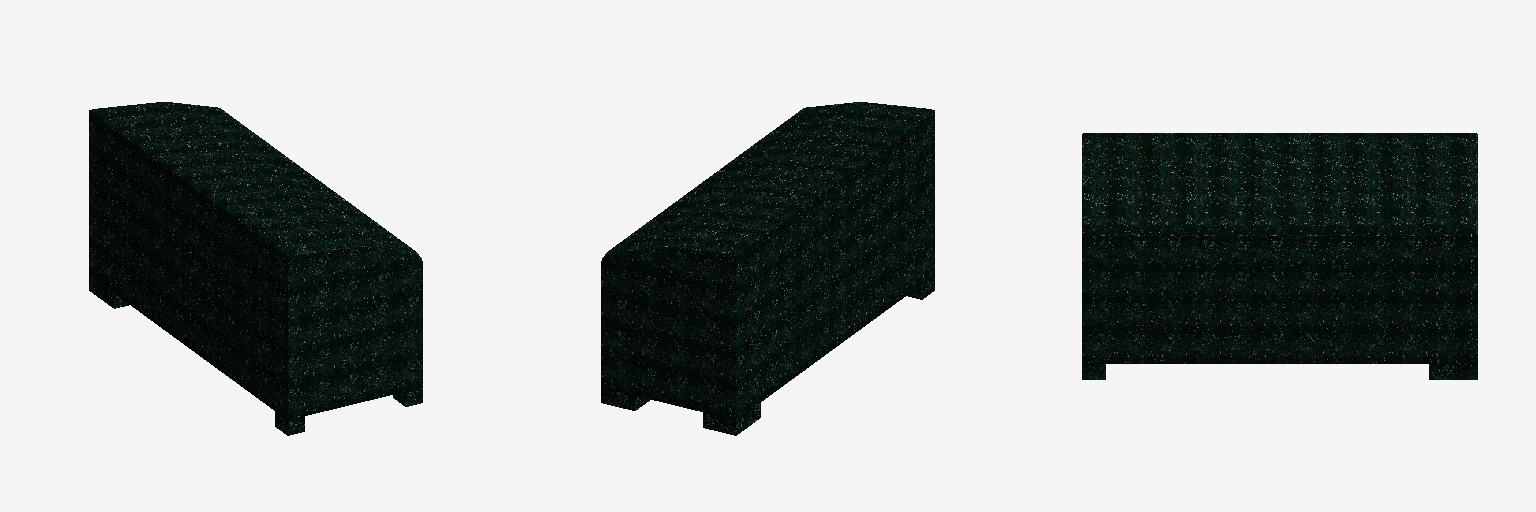
The picture shows the model from 3 angles: view 1: azimuth 30°, elevation 25°; view 2: azimuth 150°, elevation 25°; view 3: azimuth 270°, elevation 25°; orthographic projection.
Parts seen in each view (by area): view 1: dumpster; view 2: dumpster; view 3: dumpster.
Boxes of the visible parts, x1=… form: dumpster: x1=89, y1=102, x2=422, y2=435; dumpster: x1=601, y1=102, x2=934, y2=435; dumpster: x1=1082, y1=133, x2=1477, y2=379.
Bounding box in the file's own units: 4.53 × 5.84 × 11.54.
1 materials, 1 textured.